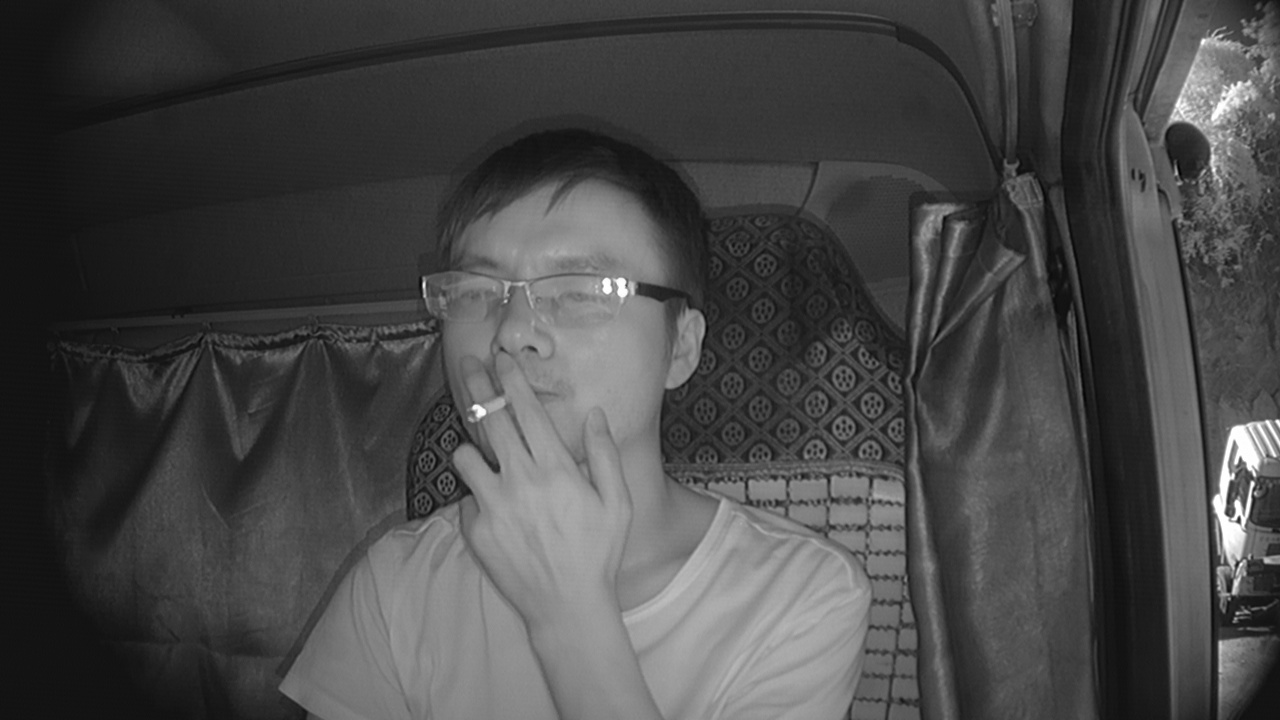hand: (449, 347, 619, 580)
